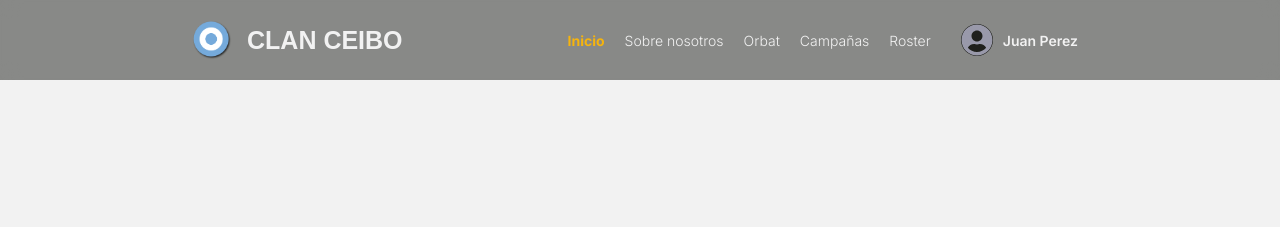
Test: Navbar › closes the dropdown after navigating to the admin panel
What coordinates should you click on to do the following:
click the button "Juan Perez"
I would click on:
 (1019, 40)
Its box is [951,18,1088,62].
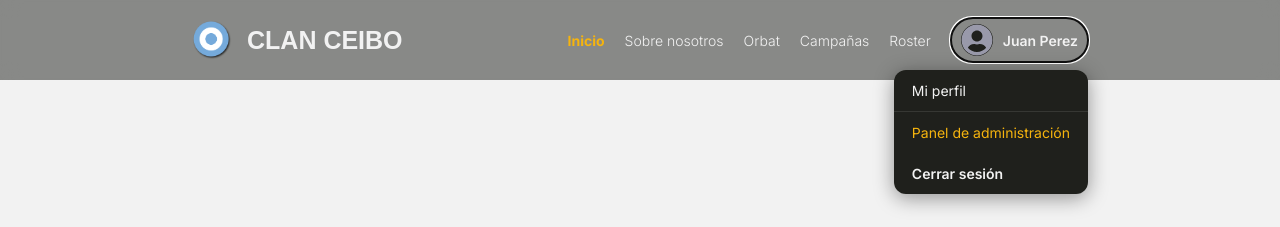
What coordinates should you click on to do the following:
click the link "Panel de administración"
I would click on:
 (991, 132)
Its box is [894,111,1088,153].
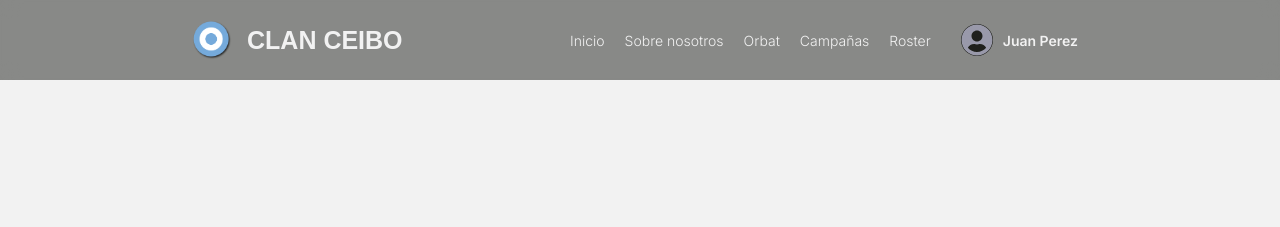
expect the link "Panel de administración" is gone: met
